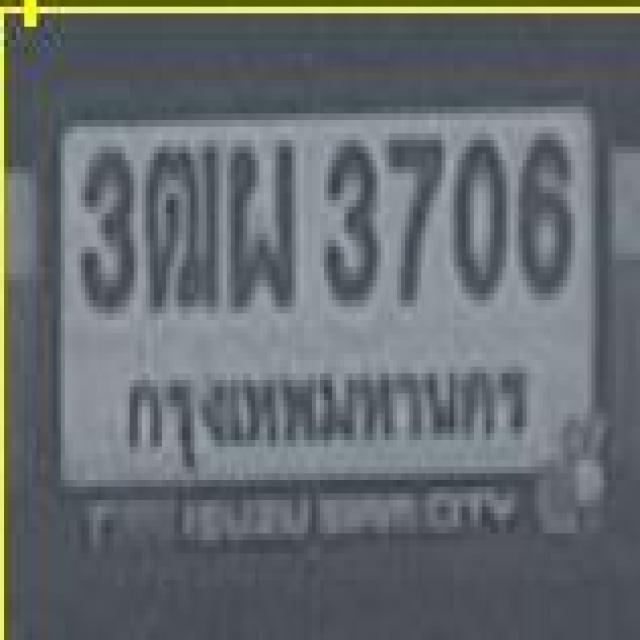license_plate: (39, 69, 618, 569)
